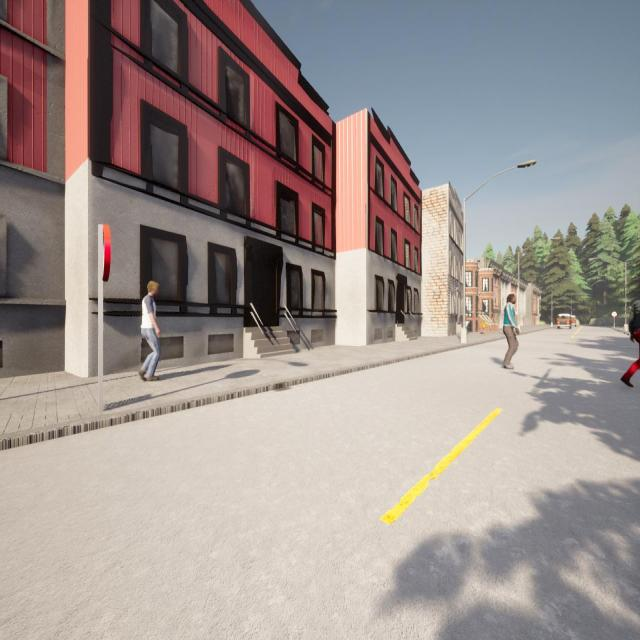Pedestrian: (138, 276, 160, 384), (622, 298, 640, 388), (503, 293, 519, 369), (481, 320, 486, 336)
Traffic_Signs: (97, 223, 111, 284), (611, 312, 617, 316)
Vehicle: (556, 314, 572, 329), (570, 315, 576, 328)
